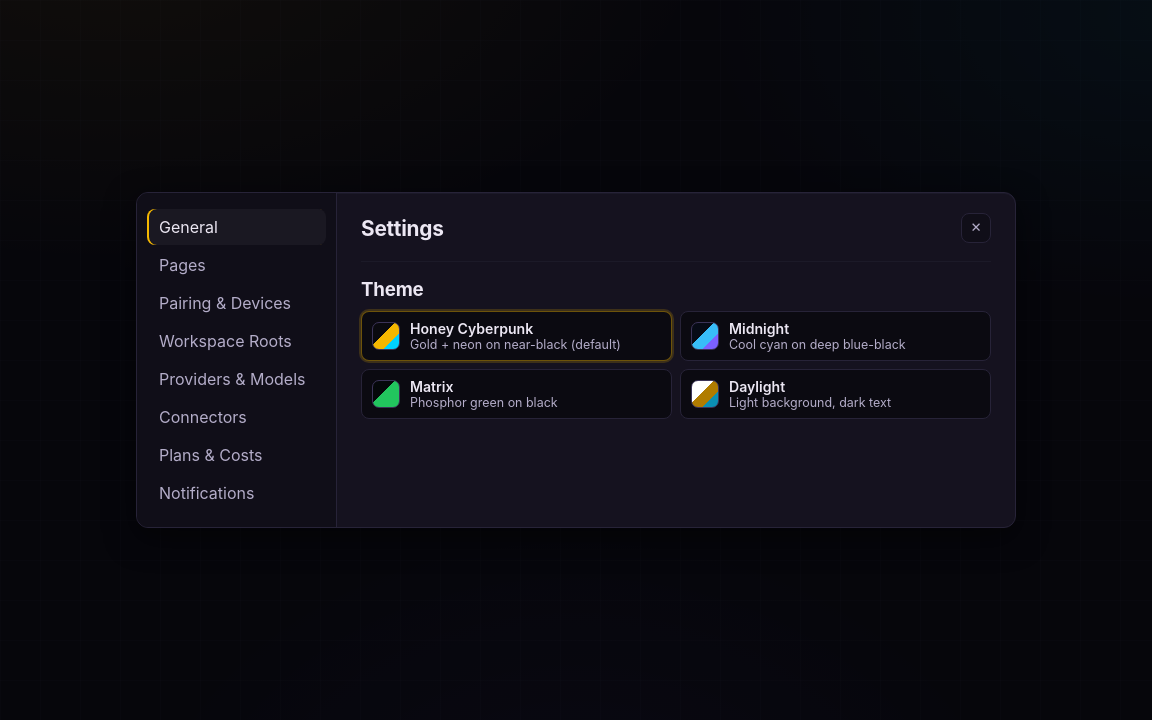
Test: SettingsModal › reaches the Workspace Roots section
This screenshot has width=1152, height=720.
Step 1. Click the button "Workspace Roots" → (236, 341), box top-left (147, 323), bottom-right (326, 359)
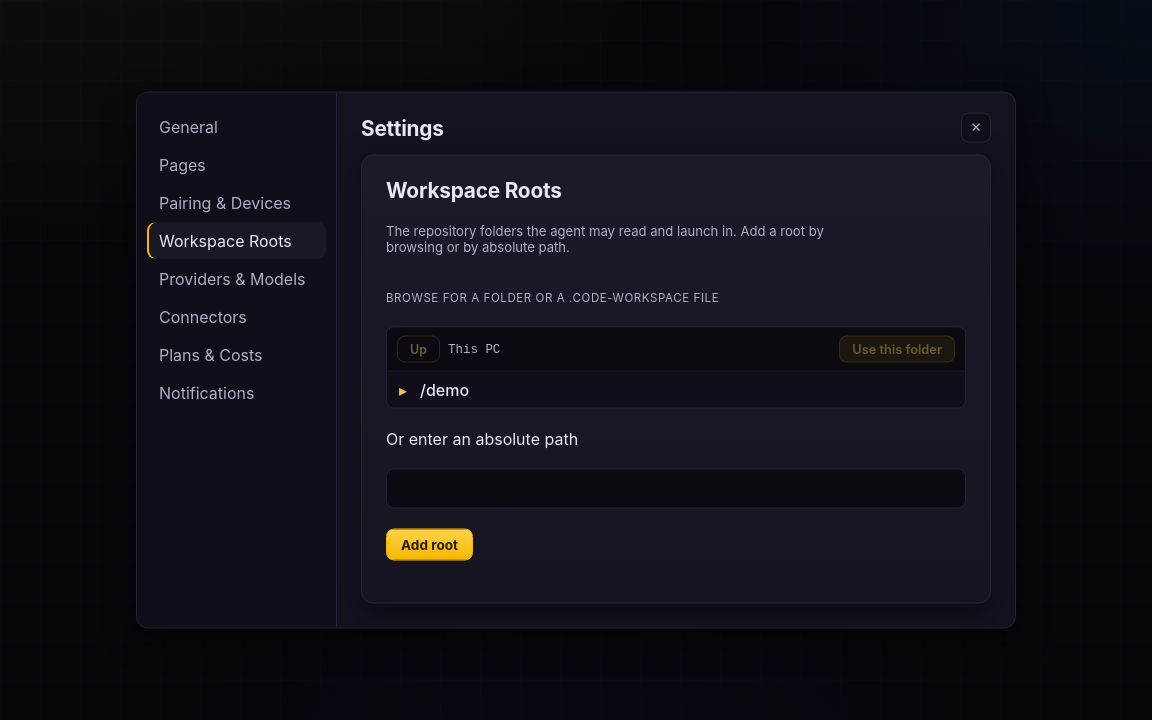
Check: the field labelled "Or enter an absolute path" is shown, box top-left (386, 468), bottom-right (966, 508)
